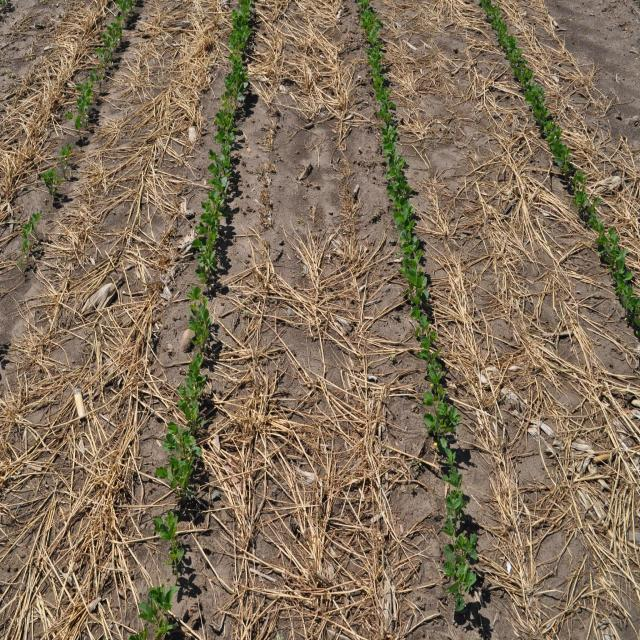row: (177, 0, 464, 640), (375, 0, 640, 640), (0, 0, 230, 639), (497, 0, 640, 293), (0, 0, 111, 269)
